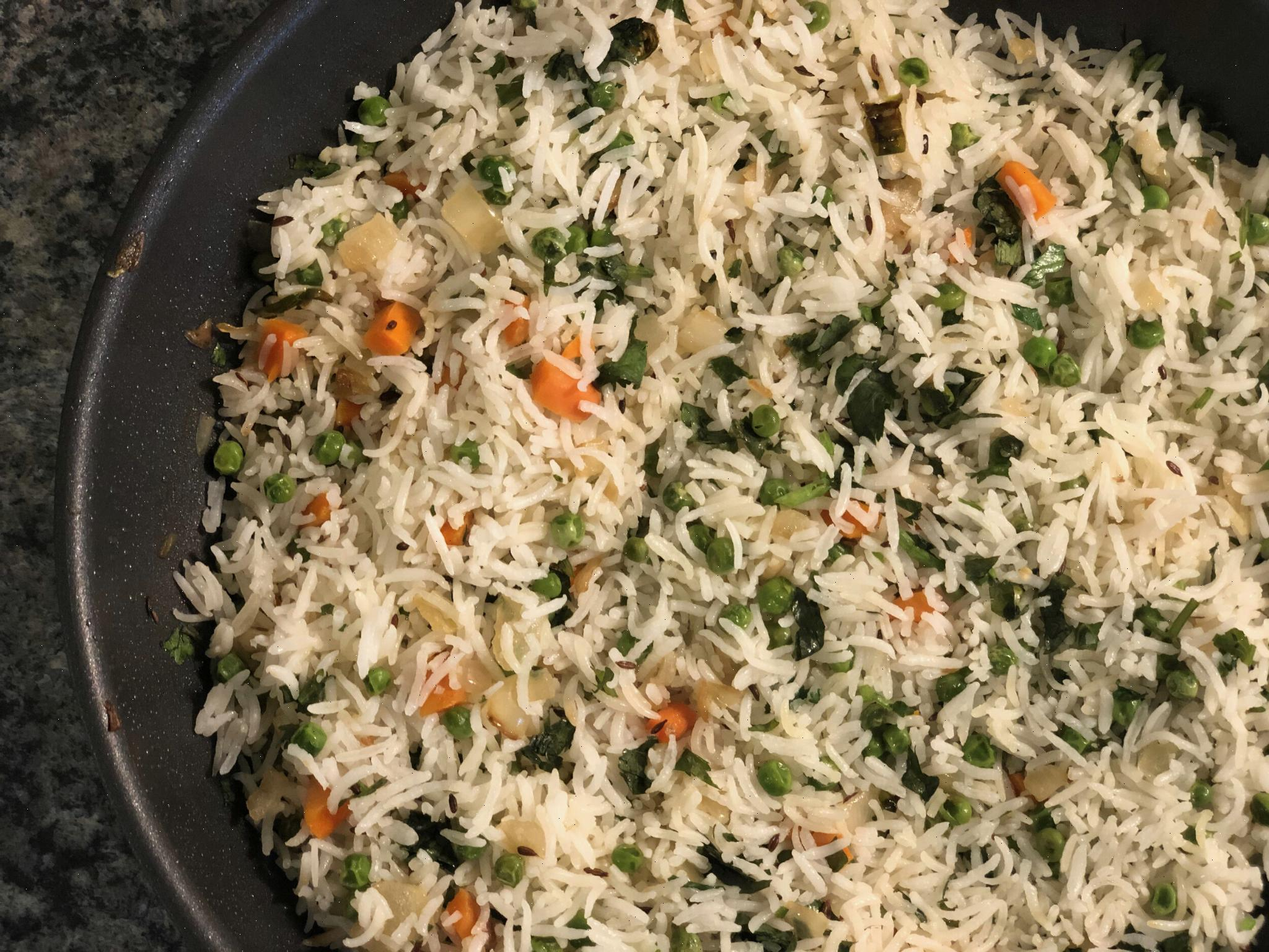veg-pulao: (239, 69, 1269, 952)
